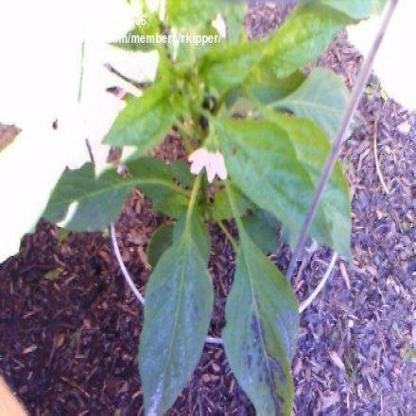Bell_pepper leaf: (216, 113, 353, 263), (221, 234, 298, 415), (136, 242, 215, 415), (254, 3, 370, 64), (42, 168, 130, 229), (95, 86, 175, 146)
